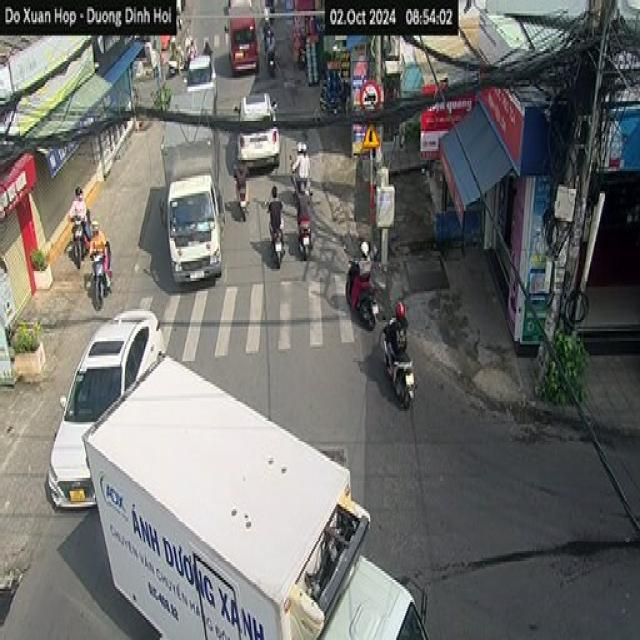car: (47, 308, 165, 513), (238, 95, 281, 174), (228, 0, 260, 72), (186, 48, 220, 106)
motorcycle: (343, 264, 381, 336), (382, 340, 418, 407), (88, 249, 115, 301), (69, 210, 88, 266), (265, 226, 285, 272), (319, 90, 346, 124), (294, 213, 310, 259), (298, 167, 316, 205), (234, 186, 253, 214), (165, 53, 180, 81), (267, 47, 277, 78)
person: (378, 288, 409, 366), (345, 245, 373, 291), (295, 175, 312, 228), (267, 188, 283, 244), (285, 134, 303, 179), (92, 208, 106, 265), (228, 153, 246, 192), (75, 174, 86, 220), (302, 138, 312, 175), (268, 31, 277, 68), (184, 34, 198, 56), (168, 34, 180, 54), (200, 34, 214, 49)
truck: (81, 351, 433, 640), (166, 97, 220, 281)
